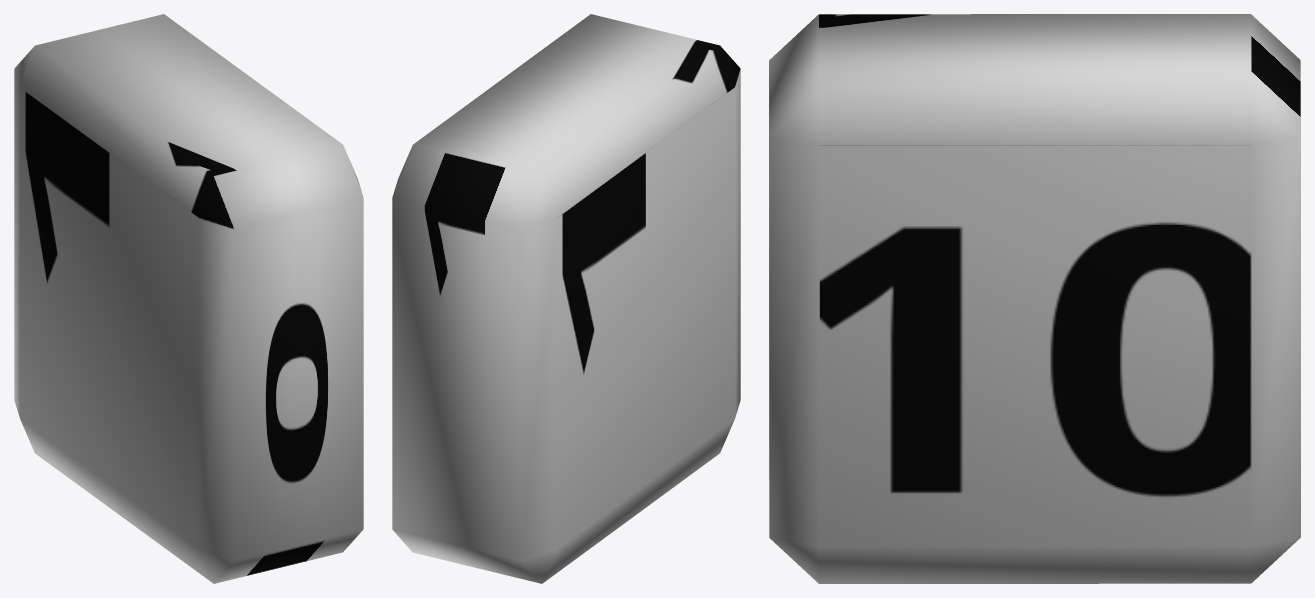
The model's file is Boton10.fbx.
The picture shows the model from 3 angles, left to right: view 1: azimuth 30°, elevation 25°; view 2: azimuth 150°, elevation 25°; view 3: azimuth 270°, elevation 25°; orthographic projection. The views are drawn at different scales.
Parts seen in each view (by area): view 1: Boton10; view 2: Boton10; view 3: Boton10.
Boxes of the visible parts, x1=… form: Boton10: x1=14, y1=14, x2=363, y2=583; Boton10: x1=392, y1=14, x2=740, y2=583; Boton10: x1=769, y1=14, x2=1300, y2=583.
Size of the model in its own units: 1.36 by 3.32 by 3.25.
